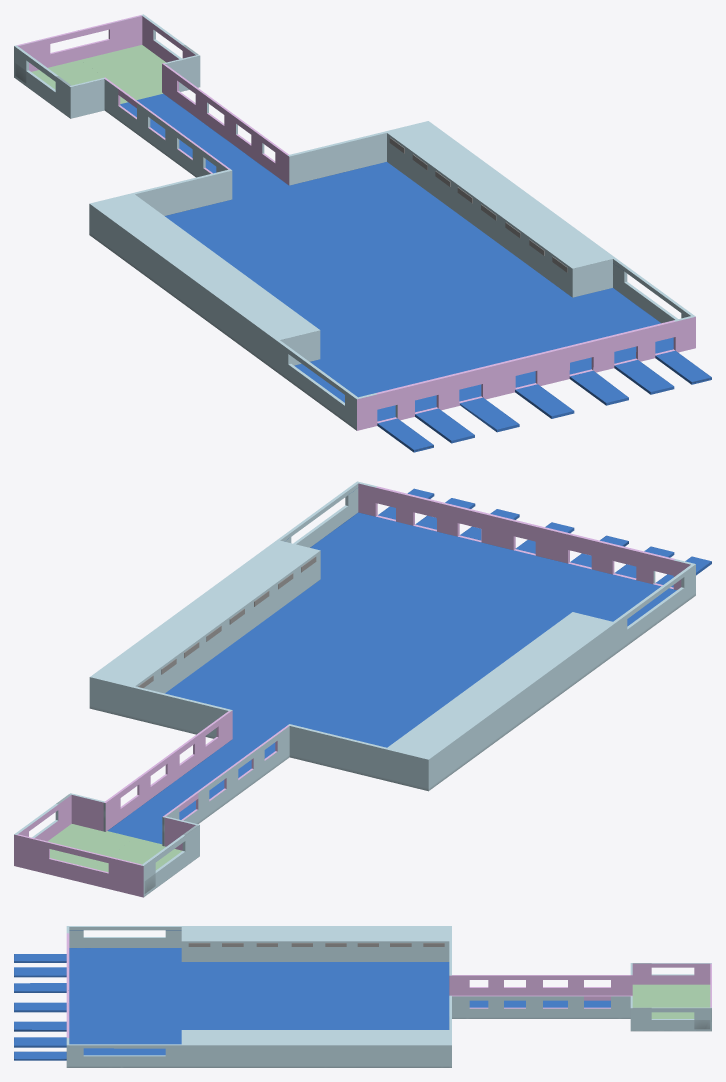
Rendered from Airportfbx.fbx.
3 views of the same model, one above another, from view 1: azimuth 30°, elevation 25°; view 2: azimuth 150°, elevation 25°; view 3: azimuth 270°, elevation 25° (orthographic). The views are drawn at different scales.
Parts seen in each view (by area): view 1: pCube8, pCube10; view 2: pCube8, pCube10; view 3: pCube8, pCube10.
Part boxes in pixels (bbox=[...]): pCube8: bbox=[89, 63, 711, 452]; pCube10: bbox=[14, 14, 200, 118]; pCube8: bbox=[89, 481, 711, 846]; pCube10: bbox=[14, 793, 199, 897]; pCube8: bbox=[14, 926, 632, 1067]; pCube10: bbox=[630, 963, 711, 1031].
Bounding box in the file's own units: 136 × 12.12 × 337.
